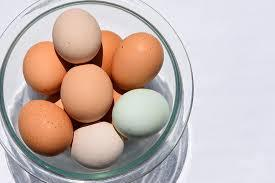egg: (18, 96, 75, 158), (109, 30, 166, 90), (61, 64, 116, 124), (111, 88, 171, 142), (51, 5, 103, 63), (70, 121, 125, 169), (22, 41, 64, 92)
